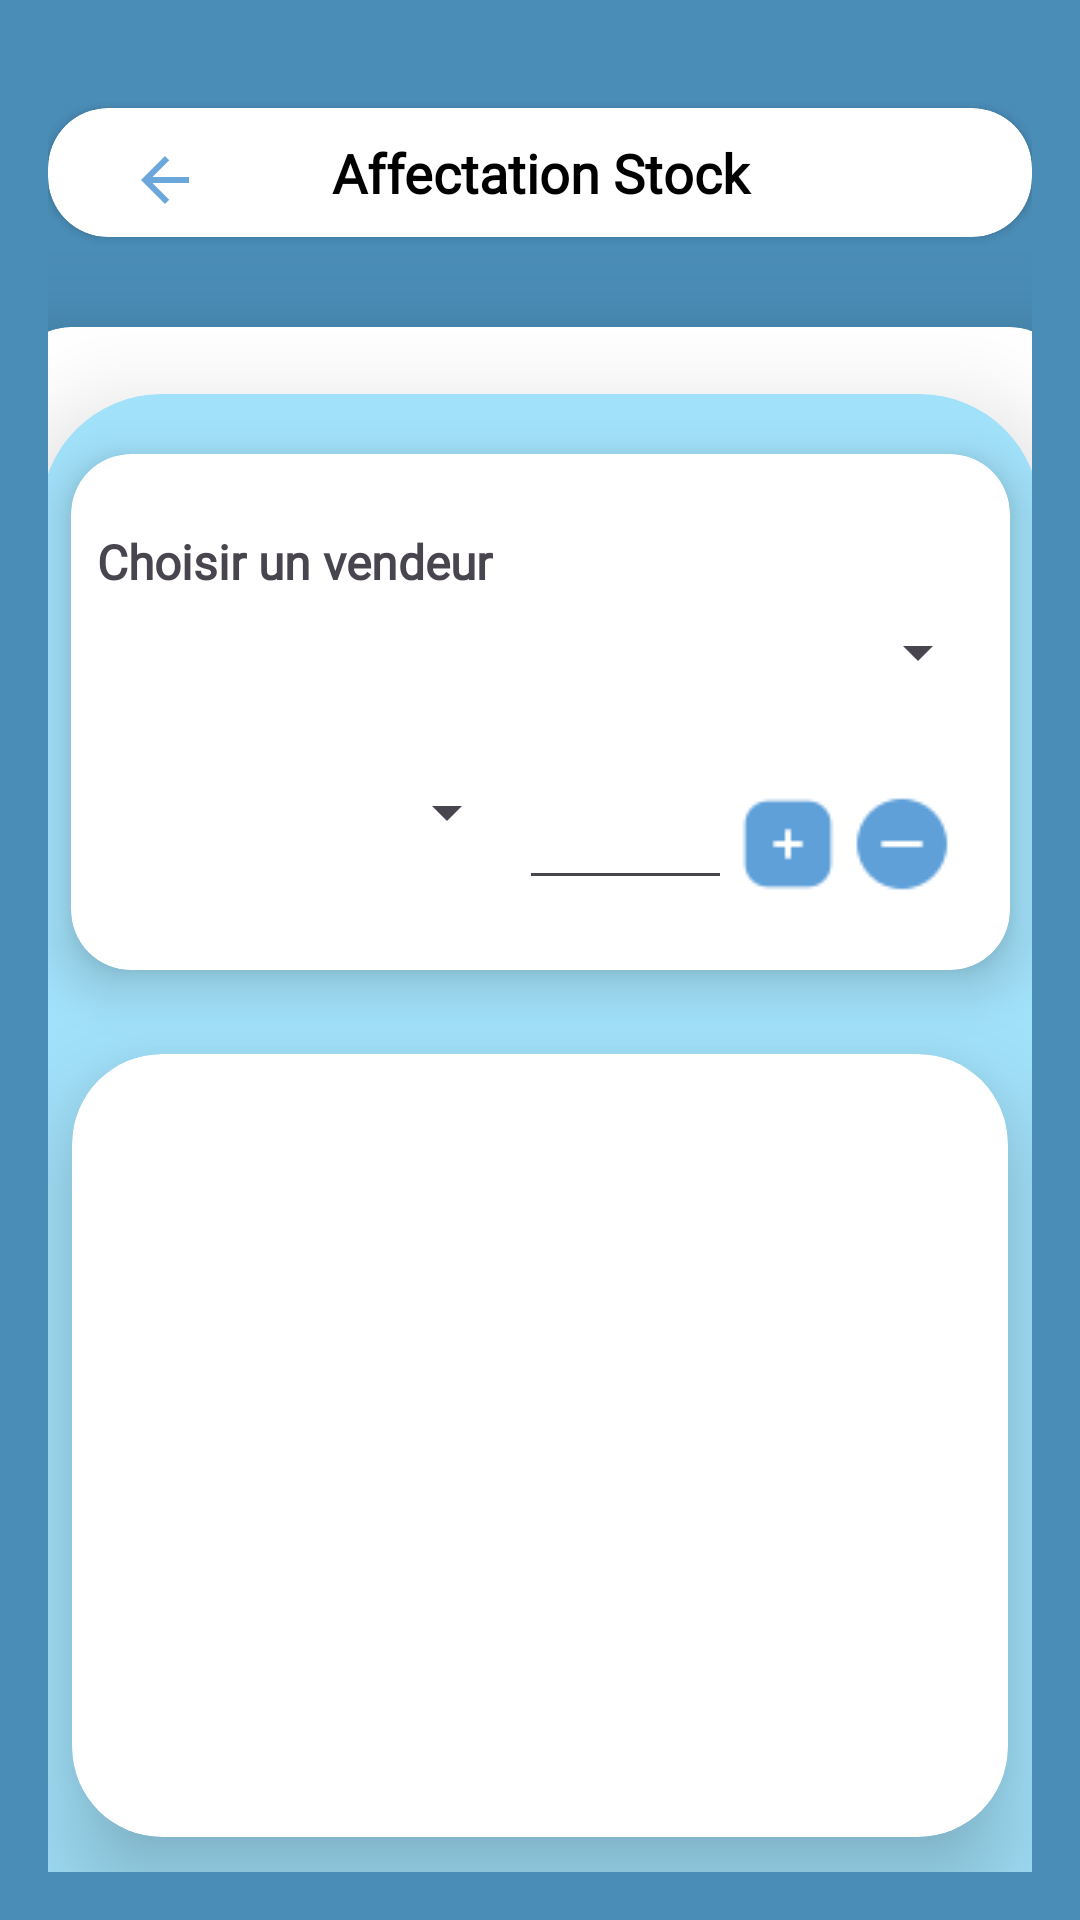

Named icons in this screenshot (1080 × 1920) and their bounding boxes, bbox=[x1, y1, x2, y2]:
addv: bbox=[743, 799, 833, 889]
soustractionv: bbox=[856, 798, 948, 890]
